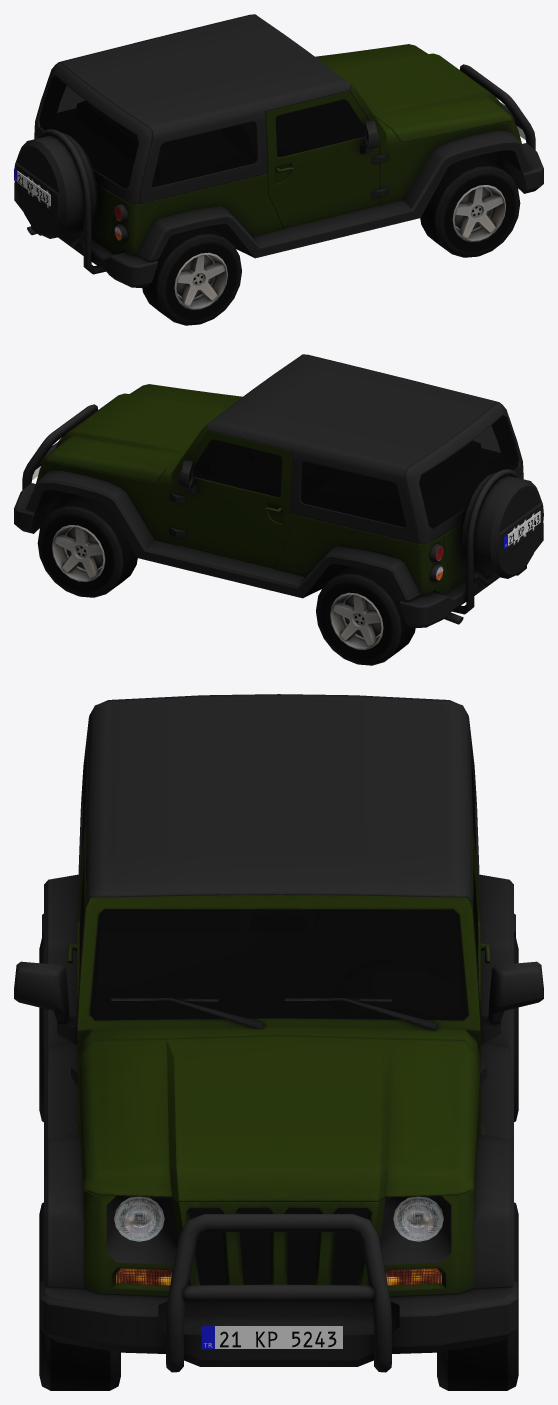
File: CarPlated3924.dae
3 renders of one model, top to bottom at view 1: azimuth 30°, elevation 25°; view 2: azimuth 150°, elevation 25°; view 3: azimuth 270°, elevation 25°, orthographic. The views are drawn at different scales.
Visible parts, largest first — view 1: CarPlated3924; view 2: CarPlated3924; view 3: CarPlated3924.
Boxes of the visible parts, x1=… form: CarPlated3924: x1=14, y1=14, x2=543, y2=325; CarPlated3924: x1=14, y1=354, x2=543, y2=665; CarPlated3924: x1=14, y1=694, x2=543, y2=1390.
Size of the model in its own units: 3.99 by 1.96 by 1.57.
